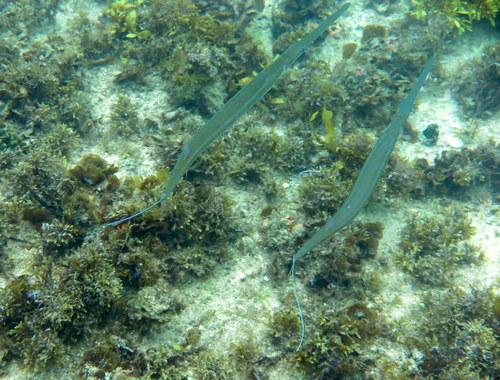Fistularia commersonii: (292, 17, 443, 318), (160, 0, 337, 242)
